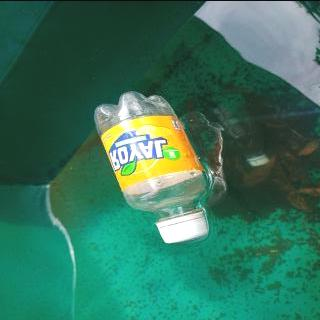bottle: (89, 88, 211, 244)
